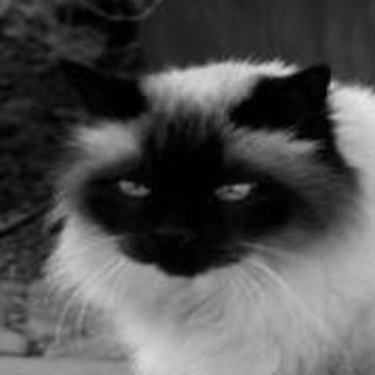cat: (34, 51, 370, 369)
